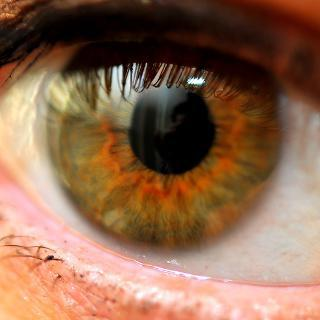pupil: (125, 83, 216, 174)
